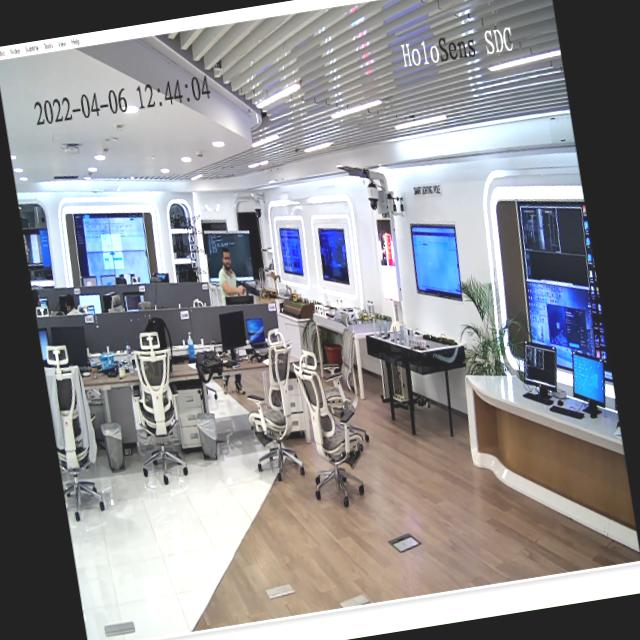long weapon: (231, 266, 267, 308)
